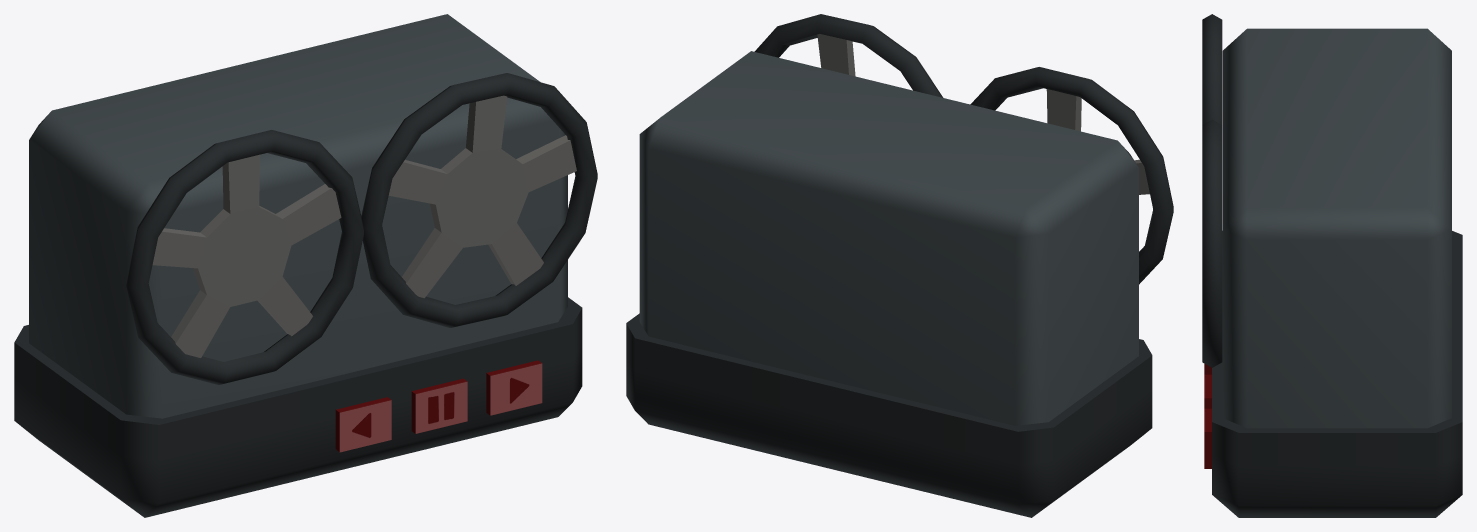
File: tape_recorder.fbx
3 renders of one model, left to right at view 1: azimuth 30°, elevation 25°; view 2: azimuth 150°, elevation 25°; view 3: azimuth 270°, elevation 25°, orthographic. The views are drawn at different scales.
Visible parts, largest first — view 1: top, bottom, pCylinder4 (×2), pTorus1 (×2), buttons; view 2: top, bottom, pTorus1 (×2), pCylinder4 (×2); view 3: top, bottom, pTorus1 (×2), buttons.
Boxes of the visible parts, box(x1,y1,x2,y2) form: top: box(29, 14, 567, 418); bottom: box(14, 297, 582, 517); pCylinder4 (×2): box(152, 95, 576, 357); pTorus1 (×2): box(126, 73, 597, 384); buttons: box(335, 360, 542, 452); top: box(639, 51, 1138, 425); bottom: box(626, 313, 1152, 517); pTorus1 (×2): box(754, 14, 1173, 284); pCylinder4 (×2): box(817, 34, 1149, 194); top: box(1222, 28, 1451, 428); bottom: box(1212, 231, 1462, 517); pTorus1 (×2): box(1202, 14, 1222, 367); buttons: box(1204, 363, 1211, 468).
Bounding box in the file's own units: 10.61 × 8 × 5.49.
1 material, 1 textured.
